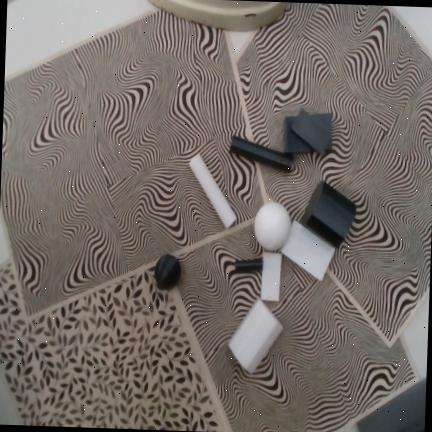Cilindro: (189, 154, 237, 229), (230, 136, 293, 173), (235, 260, 263, 271)
Esfera: (254, 202, 291, 250), (155, 255, 181, 290)
Paralelepipedo: (280, 220, 336, 282), (284, 114, 333, 154), (290, 108, 332, 153), (260, 252, 282, 302)
Prisma_hexagonal: (228, 297, 284, 374), (302, 181, 356, 249)
